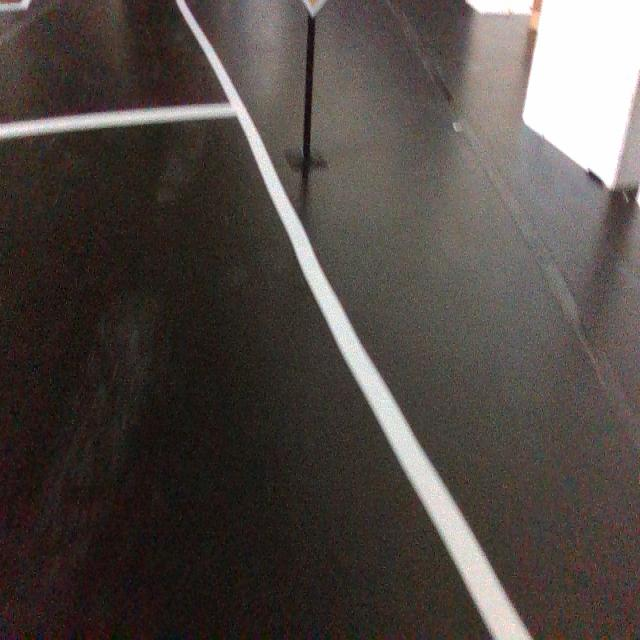priority-sign: (299, 0, 328, 19)
